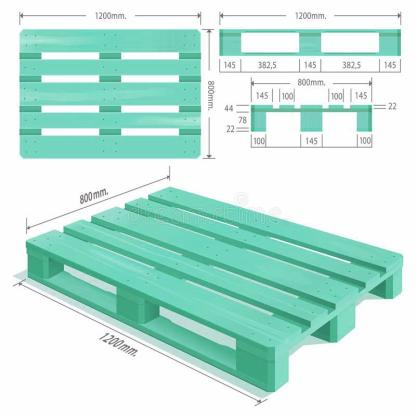BoxFace: (26, 184, 407, 397), (17, 24, 201, 162), (214, 26, 404, 61), (248, 104, 374, 138)
